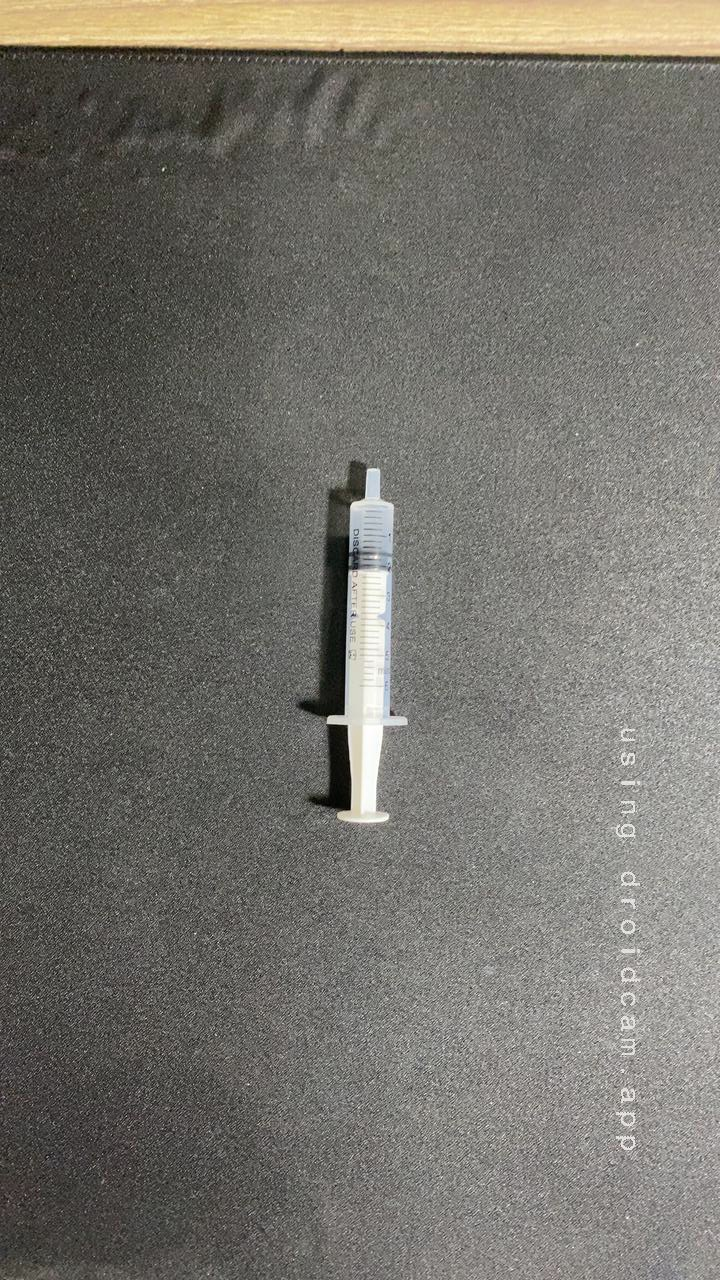syringe: (278, 441, 452, 849)
